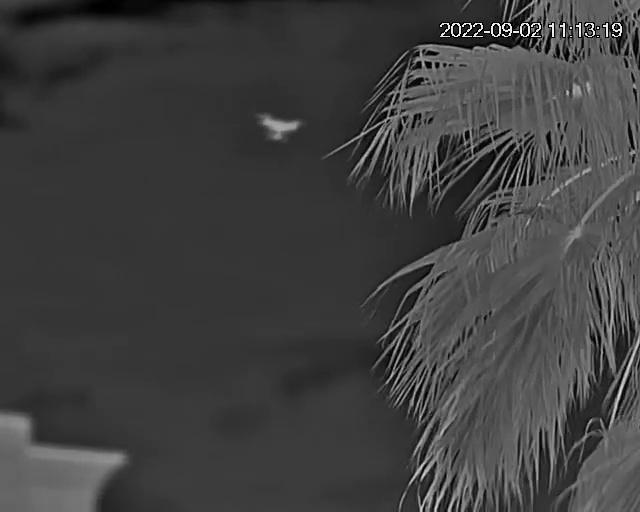DJI-Phantom: (256, 112, 306, 147)
